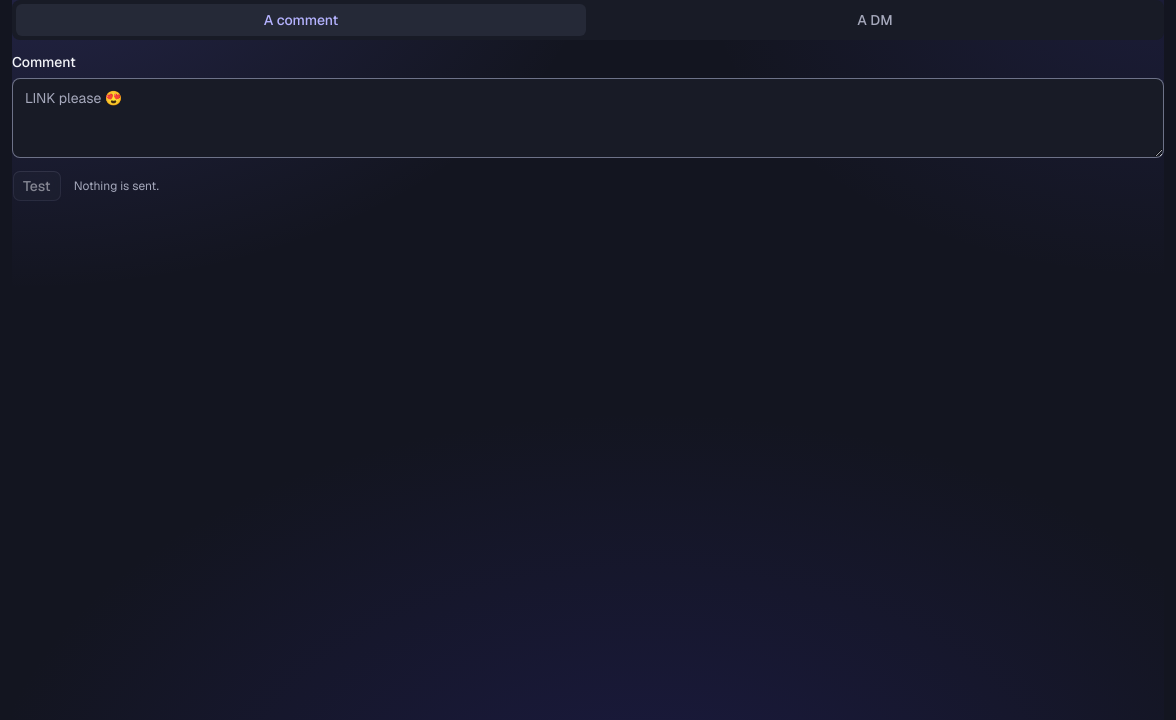
Test: MatchTester (UX-SCR-03 Test) › no match: says so, why, and which automation would run instead
Click the radio button labelled "A DM" at coordinates (875, 20), box [590,4,1160,36]
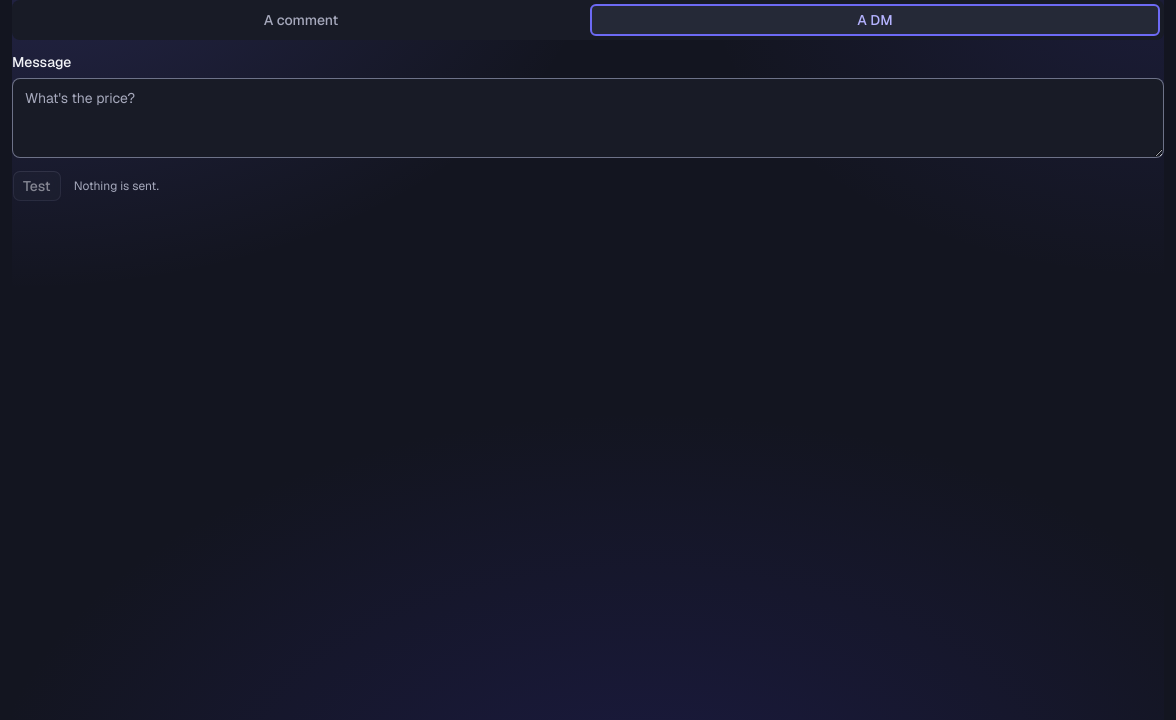
Type "what's the price" into the text box labelled "Message" at coordinates (588, 118), box [12,78,1164,158]
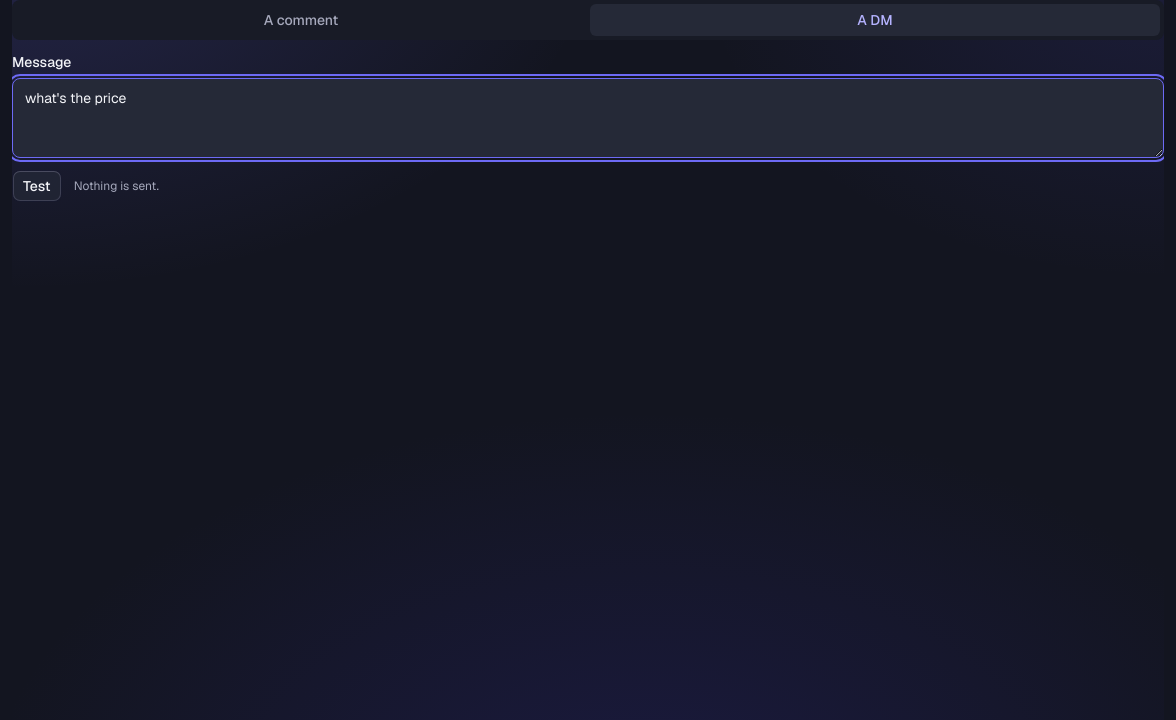
Click the button "Test" at coordinates (37, 186), box [12,170,62,202]
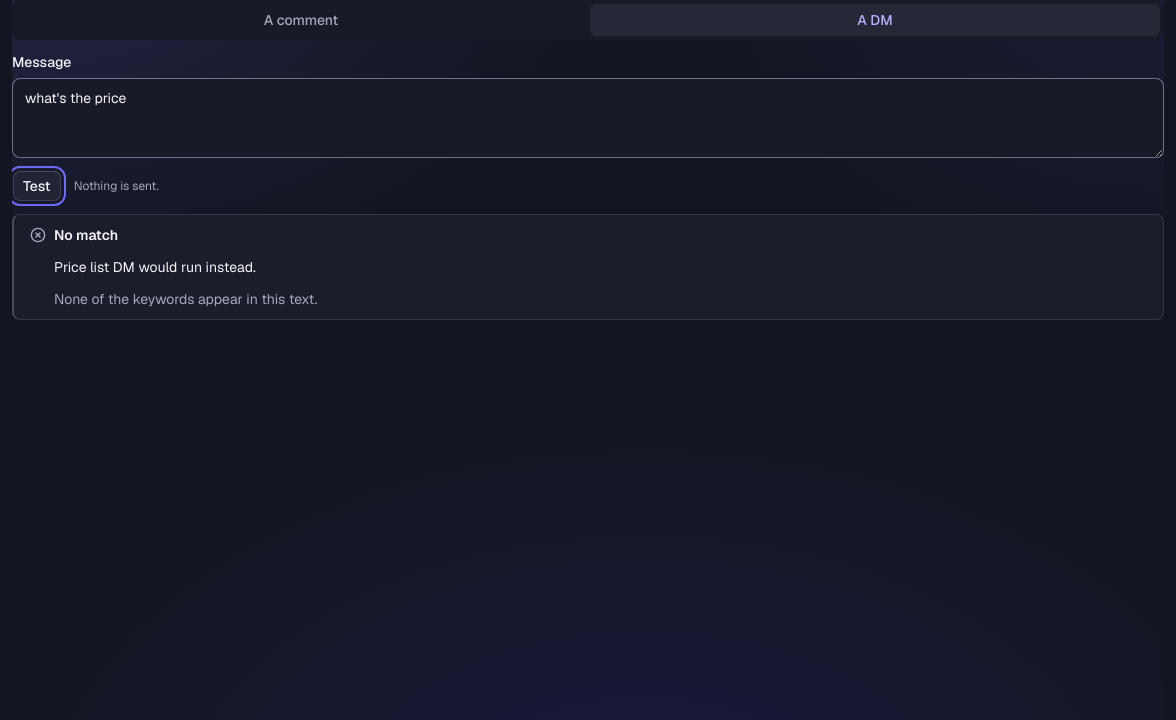
Expected: the text "Price list DM would run instead." is shown, [54,258,256,276]
Expected: the text "None of the keywords appear in this text." is shown, [54,290,317,308]
